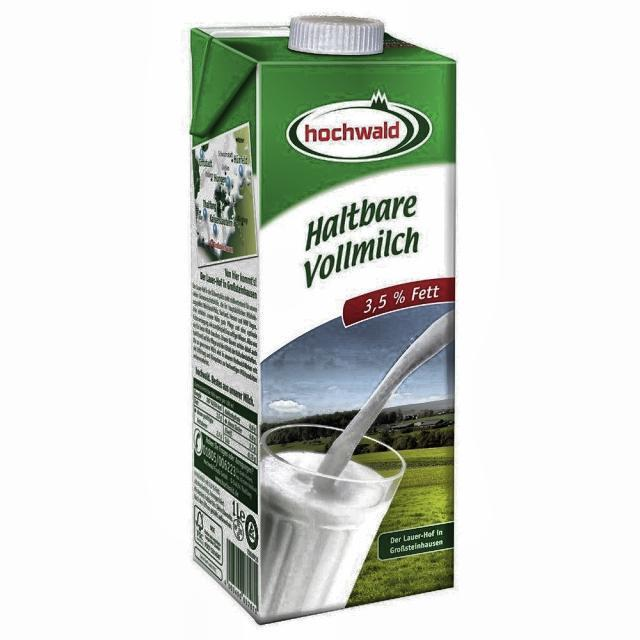cardboard: (188, 19, 456, 624)
